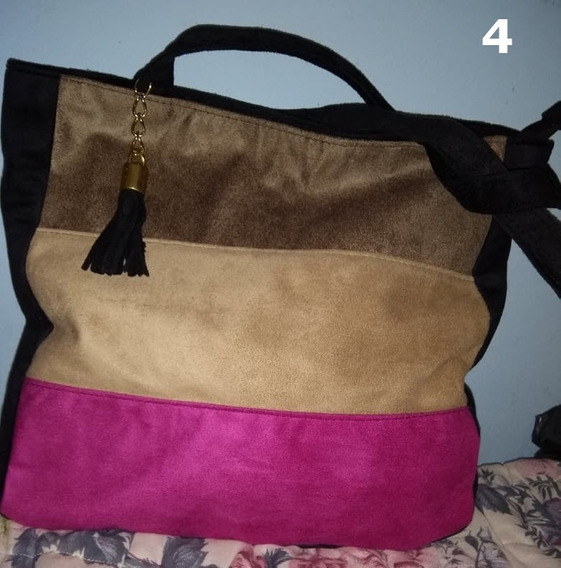cartera: (1, 21, 556, 546)
